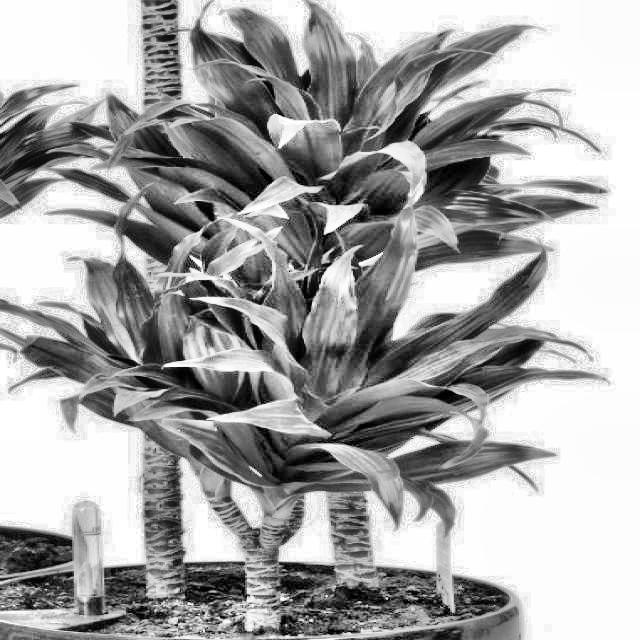plants: (89, 26, 638, 639)
